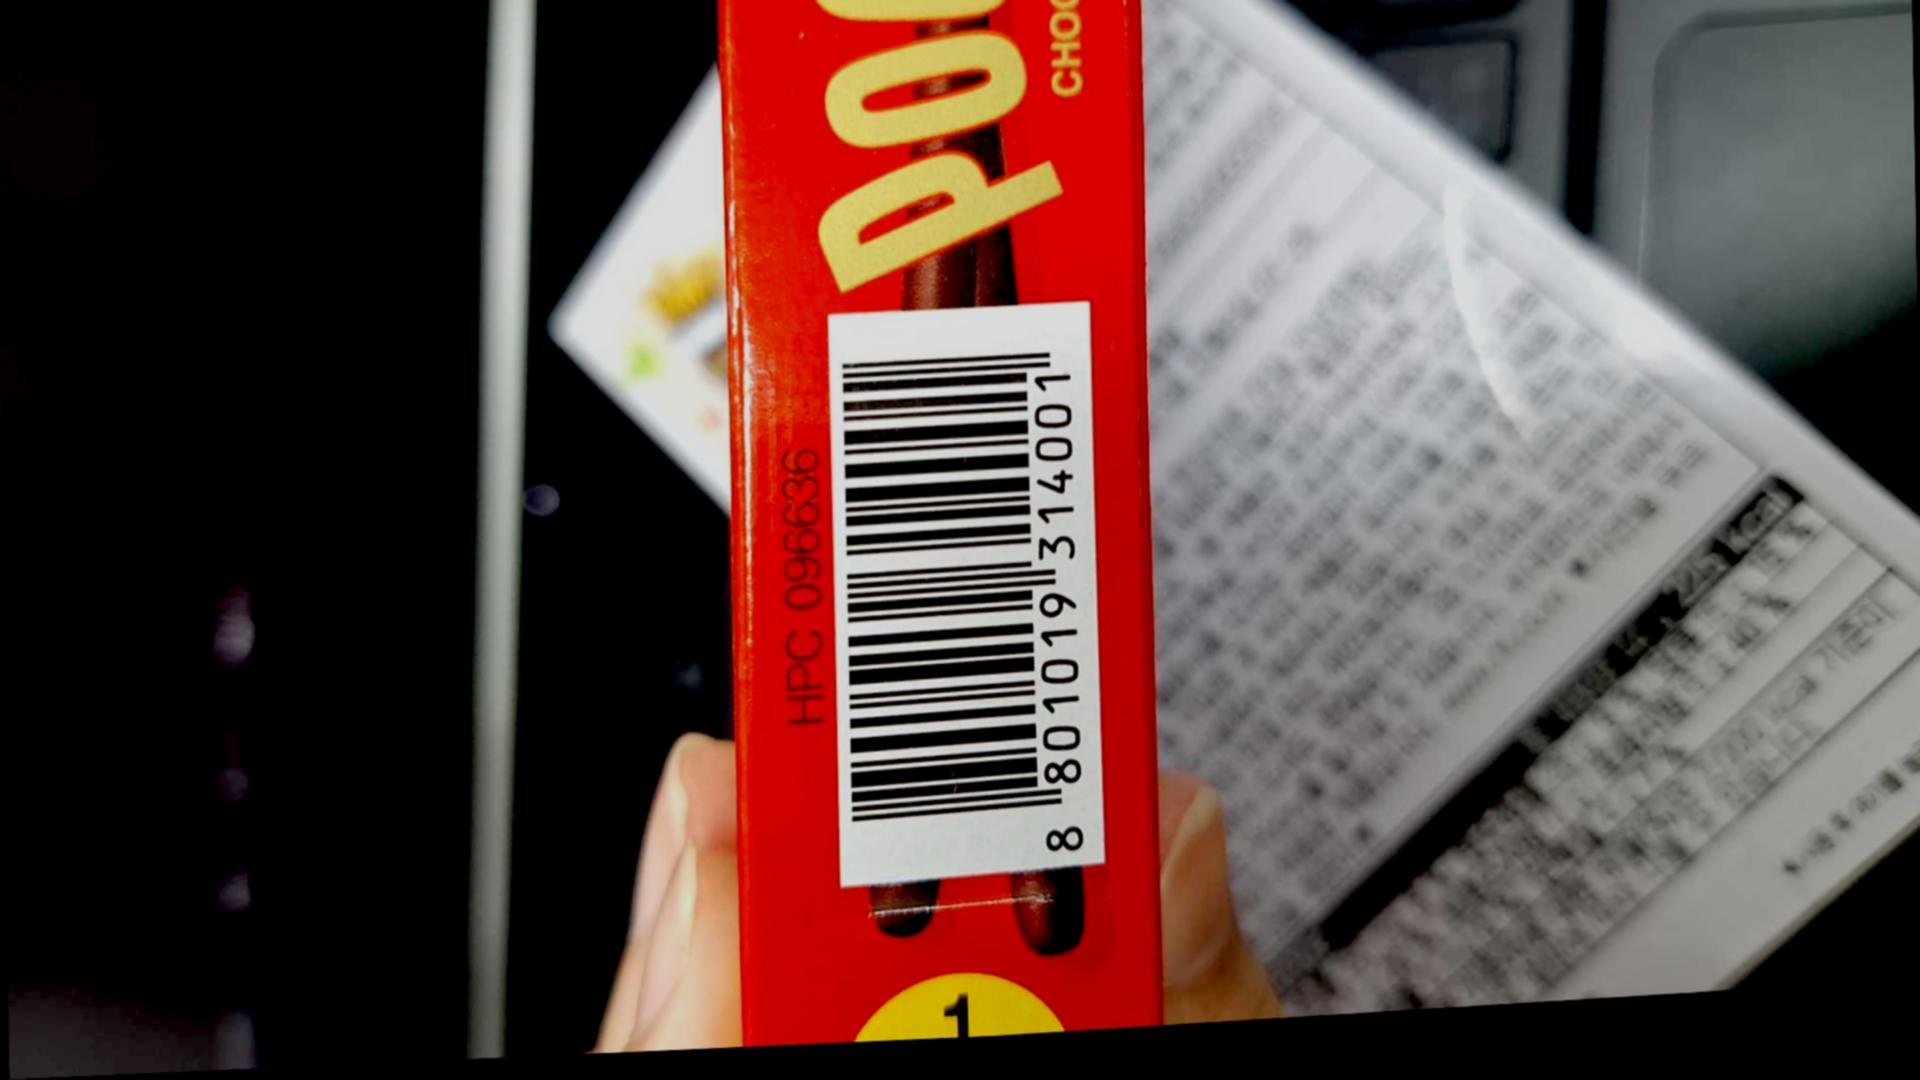redpocky-1800-2025-7-23: (832, 320, 1100, 880)
